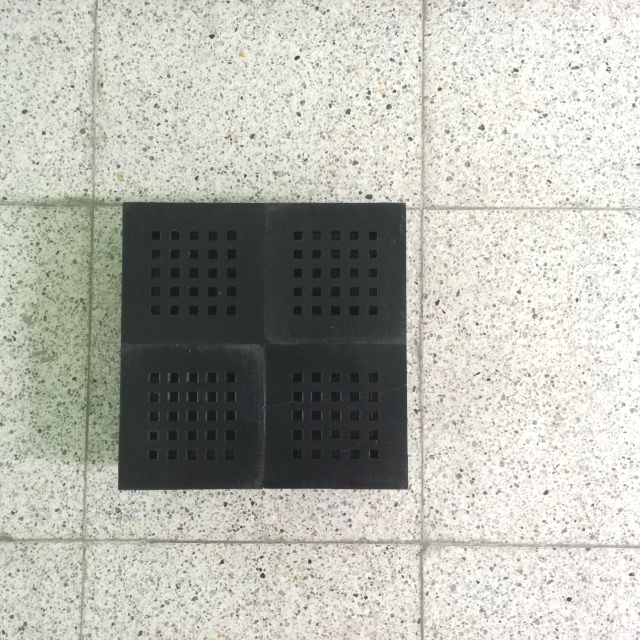pallet: (117, 197, 411, 492)
